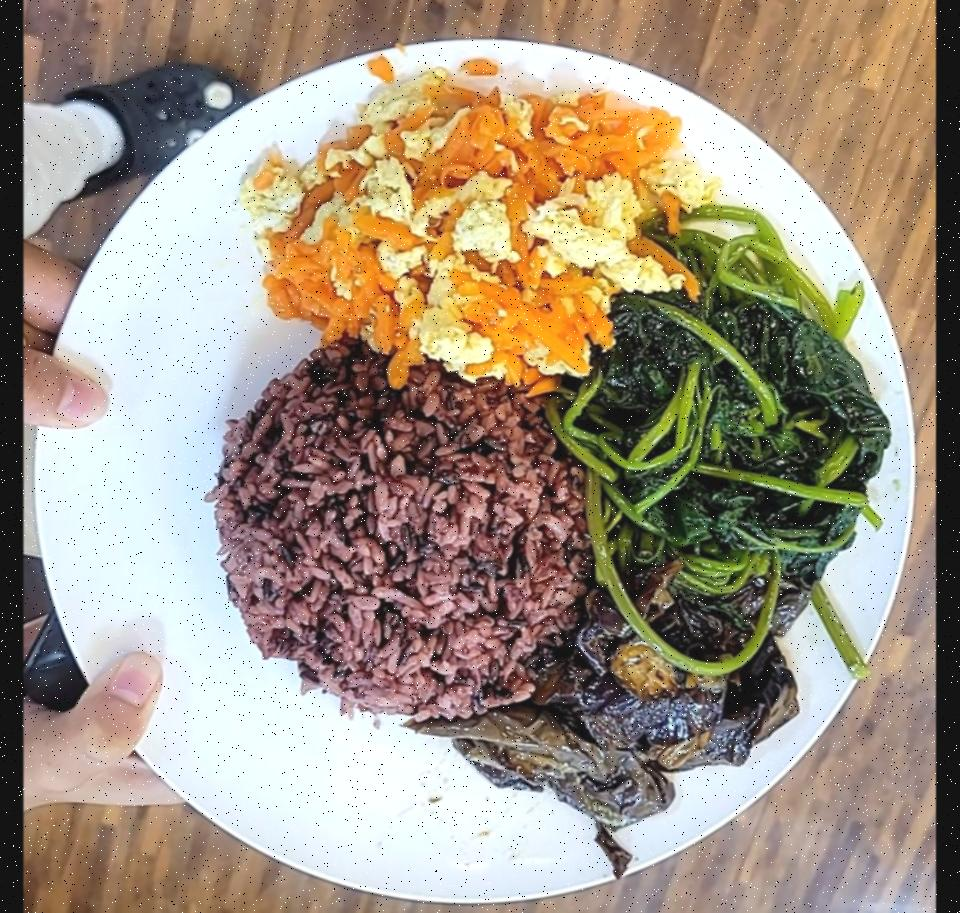plate: (35, 17, 926, 913)
purple rice: (220, 339, 592, 720)
side dish: (579, 203, 891, 662), (258, 69, 700, 379), (411, 618, 812, 826)
